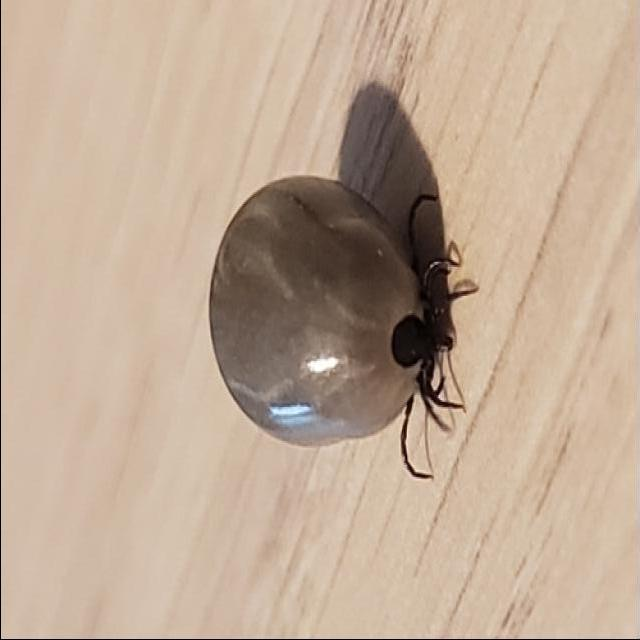Ixodes Ricinus-F-Fed: (209, 174, 480, 481)
